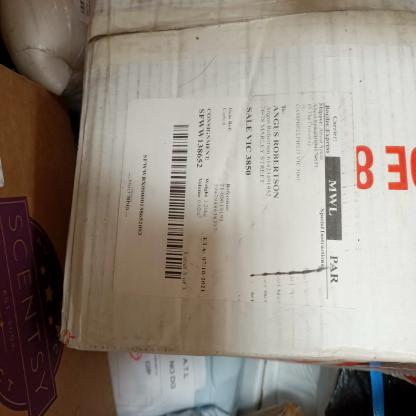label: (118, 96, 343, 309)
package: (66, 10, 416, 368)
